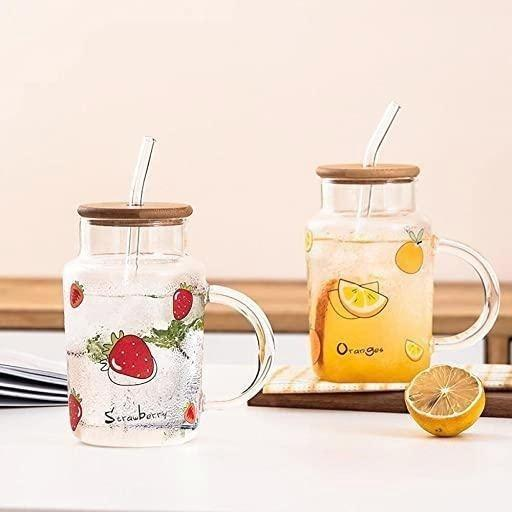glass-mug: (51, 195, 278, 454), (299, 155, 502, 396)
